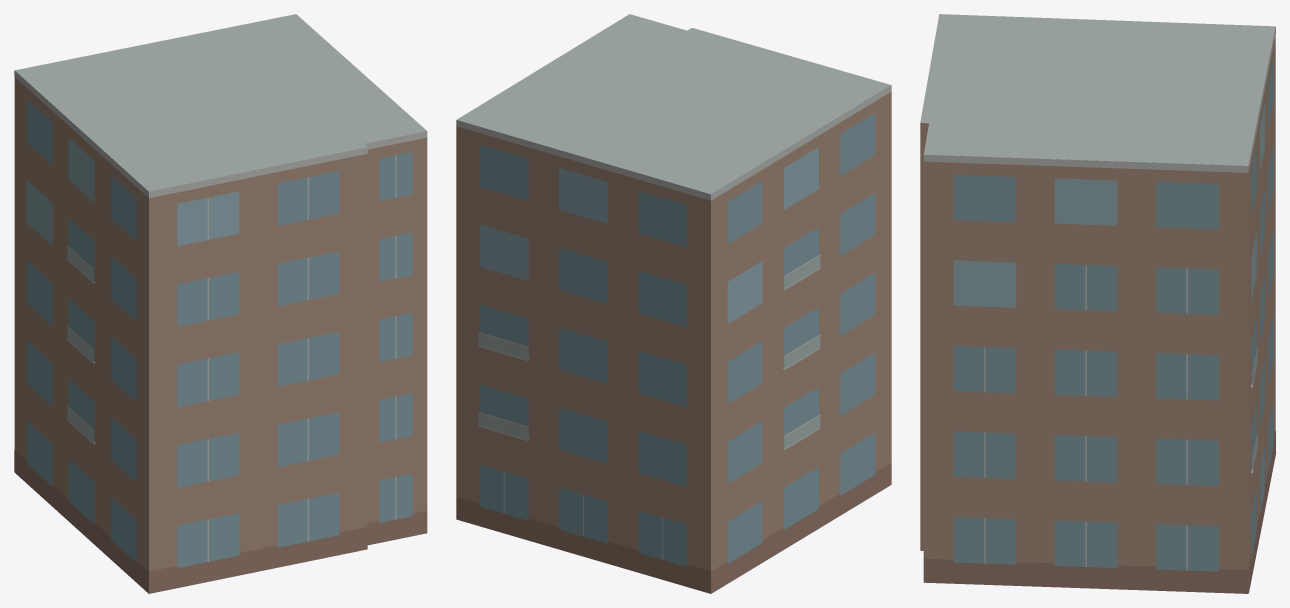
File: survey-upis-32669738.glb
3 views of the same model, side by side, from view 1: azimuth 30°, elevation 25°; view 2: azimuth 150°, elevation 25°; view 3: azimuth 270°, elevation 25° (orthographic). The views are drawn at different scales.
Parts seen in each view (by area): view 1: survey-upis-32669738.tmp; view 2: survey-upis-32669738.tmp; view 3: survey-upis-32669738.tmp.
Boxes of the visible parts, left/top/right/bottom form: survey-upis-32669738.tmp: left=14, top=14, right=427, bottom=593; survey-upis-32669738.tmp: left=456, top=14, right=891, bottom=593; survey-upis-32669738.tmp: left=920, top=14, right=1275, bottom=593.
Bounding box in the file's own units: 11.59 × 15.2 × 11.46.
